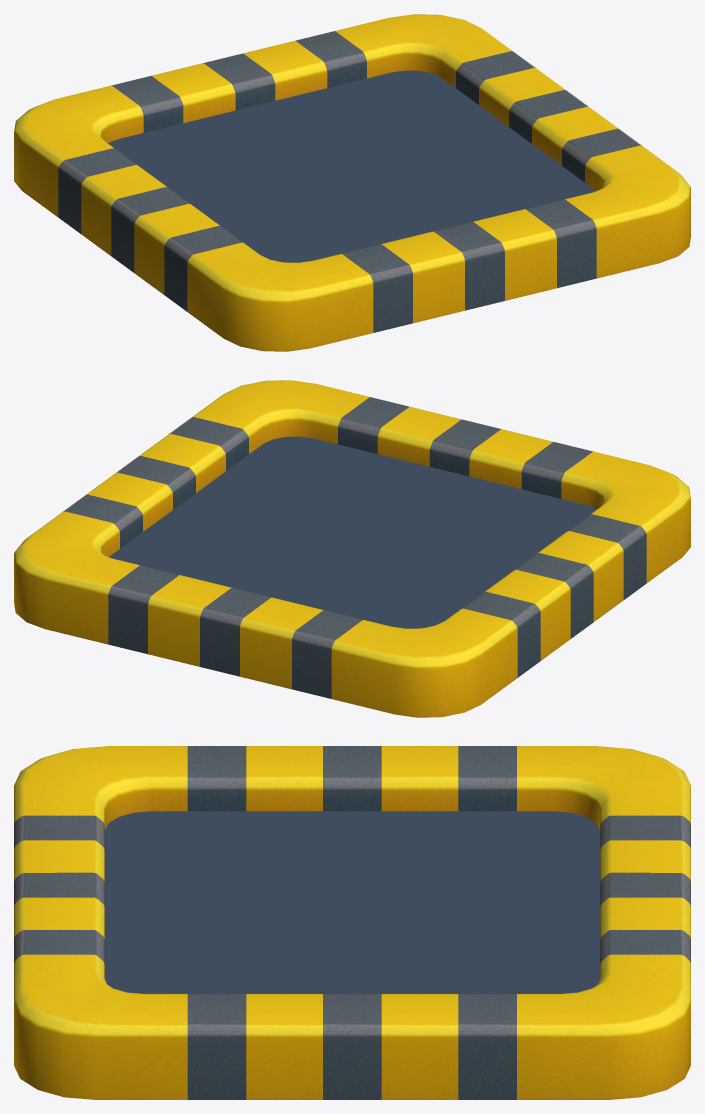
File: Podium.fbx
3 views of the same model, one above another, from view 1: azimuth 30°, elevation 25°; view 2: azimuth 150°, elevation 25°; view 3: azimuth 270°, elevation 25° (orthographic). The views are drawn at different scales.
Parts seen in each view (by area): view 1: Podium; view 2: Podium; view 3: Podium.
Part boxes in pixels (<box>): Podium: <box>14,14,690,351</box>; Podium: <box>14,380,690,717</box>; Podium: <box>14,746,690,1099</box>.
Bounding box in the file's own units: 1.79 × 0.2091 × 1.79.
